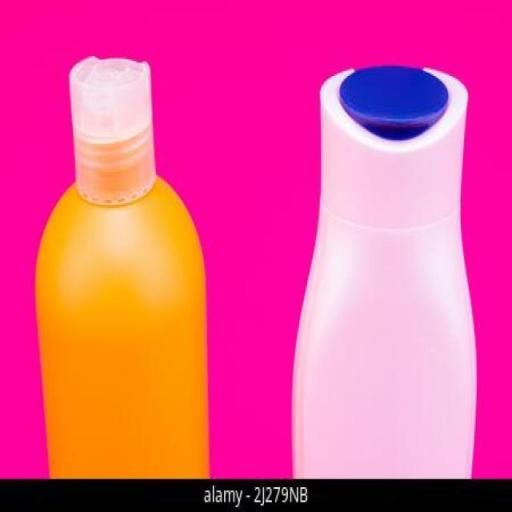plastic: (289, 64, 479, 477), (32, 49, 210, 479)
